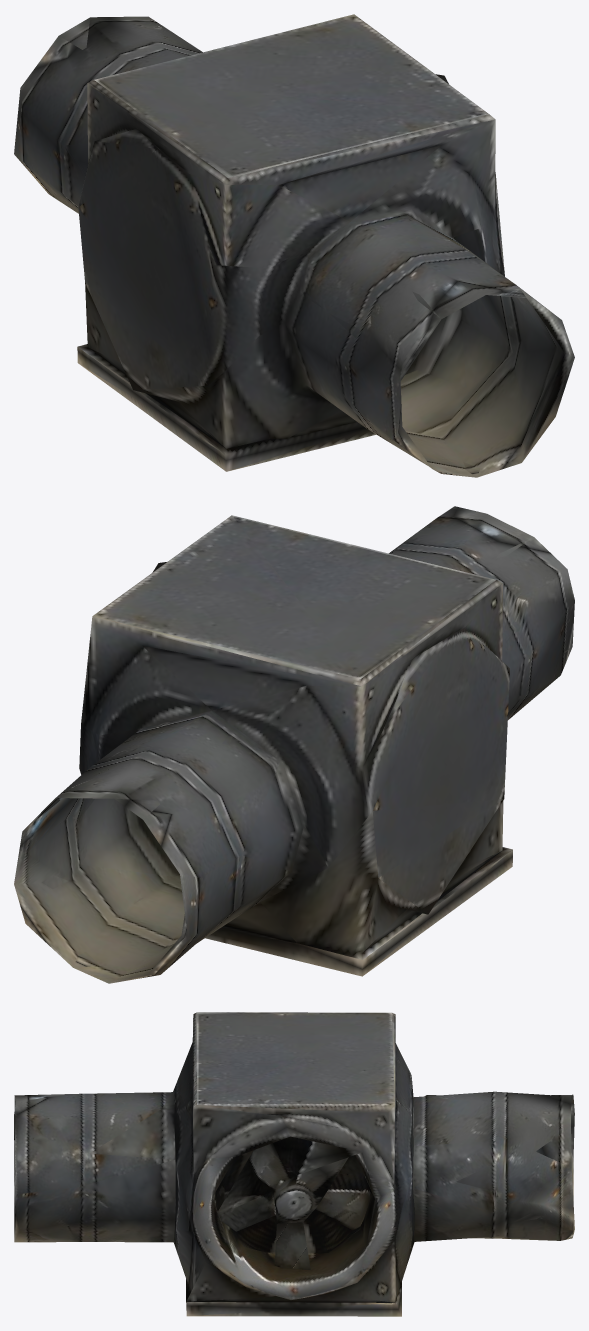
File: tripo_convert_2fdf1788-300e-4678-bd2c-d81dc5ec2265.fbx
3 views of the same model, one above another, from view 1: azimuth 30°, elevation 25°; view 2: azimuth 150°, elevation 25°; view 3: azimuth 270°, elevation 25° (orthographic). The views are drawn at different scales.
Visible parts, largest first — view 1: tripo_node_2fdf1788; view 2: tripo_node_2fdf1788; view 3: tripo_node_2fdf1788.
Boxes of the visible parts, bbox=[...] form: tripo_node_2fdf1788: bbox=[14, 14, 574, 477]; tripo_node_2fdf1788: bbox=[14, 506, 574, 983]; tripo_node_2fdf1788: bbox=[14, 1012, 574, 1316].
Size of the model in its own units: 0.4333 by 0.4098 by 0.9998.
1 material, 1 textured.
